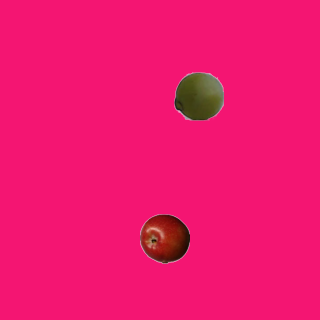Apple Braeburn: (139, 213, 189, 263)
Grape White 4: (173, 70, 223, 120)
